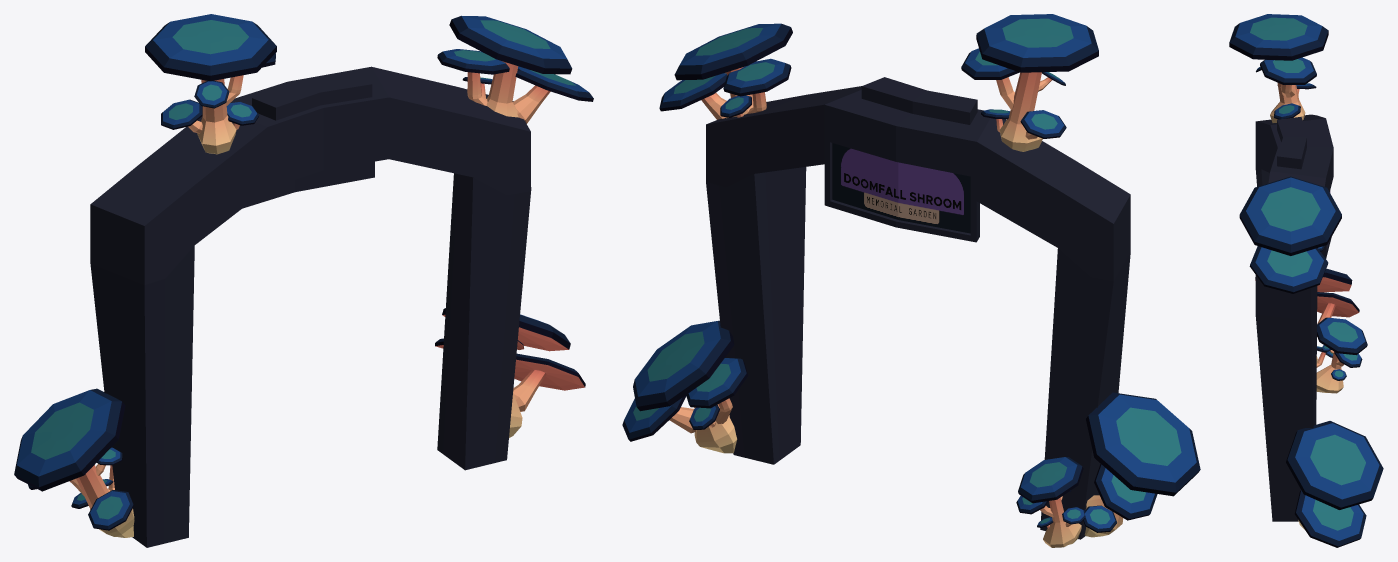
File: Sign_ShroomMemorial.fbx
3 renders of one model, left to right at view 1: azimuth 30°, elevation 25°; view 2: azimuth 150°, elevation 25°; view 3: azimuth 270°, elevation 25°, orthographic. The views are drawn at different scales.
Visible parts, largest first — view 1: CubeHome.004; view 2: CubeHome.004; view 3: CubeHome.004.
Part boxes in pixels (<box>): CubeHome.004: <box>14,14,593,547</box>; CubeHome.004: <box>622,14,1200,547</box>; CubeHome.004: <box>1229,14,1383,547</box>.
Bounding box in the file's own units: 505 × 420 × 153.
